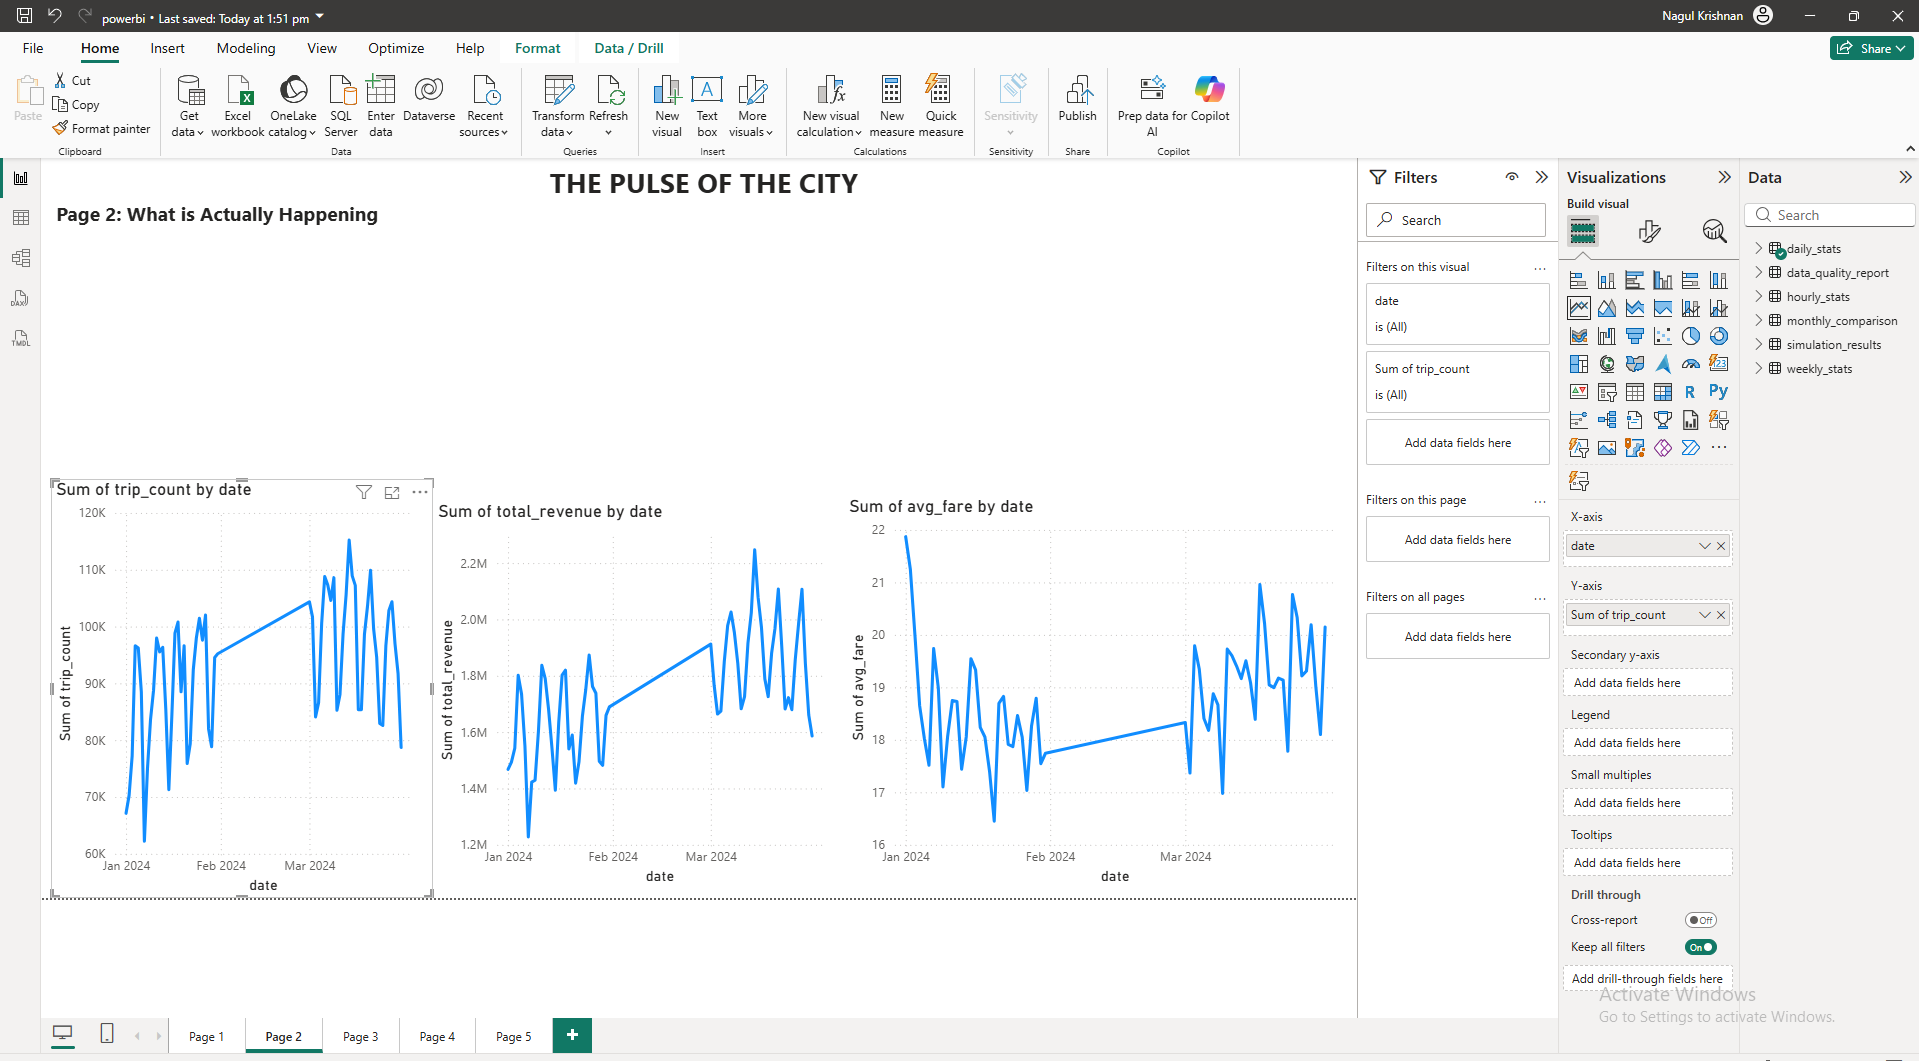

Layout of this report page (visuals, bound fields, positions):
{"tool":"powerbi","page":{"name":"Page 2","canvas":[1280,720],"ordinal":1},"visuals":[{"type":"textbox","box":[9.7,0,1270.3,280.1],"z":0},{"type":"lineChart","fields":{"Category":["daily_stats.date"],"Y":["Sum(daily_stats.total_revenue)"]},"box":[381.3,333.6,399.8,377.4],"z":1000},{"type":"lineChart","fields":{"Y":["Sum(daily_stats.trip_count)"],"Category":["daily_stats.date"]},"box":[9.7,312.2,371.6,407.5],"z":2000},{"type":"lineChart","fields":{"Category":["daily_stats.date"],"Y":["Sum(daily_stats.avg_fare)"]},"box":[781,328.8,499,382.2],"z":3000}]}

Visuals, with their boxes on the page's 1280x720 design canvas (x1, y1, x2, y2). These are canvas units, not pixel positions in the 1919x1061 screenshot, which may show the page scaled, cropped or inside an application window:
textbox: left=10, top=0, right=1280, bottom=280
lineChart - daily_stats.date x Sum(daily_stats.total_revenue): left=381, top=334, right=781, bottom=711
lineChart - Sum(daily_stats.trip_count) x daily_stats.date: left=10, top=312, right=381, bottom=720
lineChart - daily_stats.date x Sum(daily_stats.avg_fare): left=781, top=329, right=1280, bottom=711
